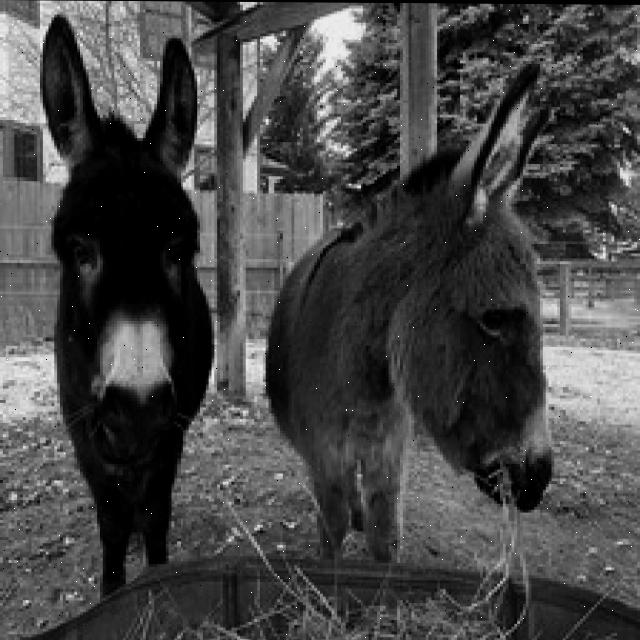Donkey: (263, 53, 554, 564), (37, 12, 214, 601)
